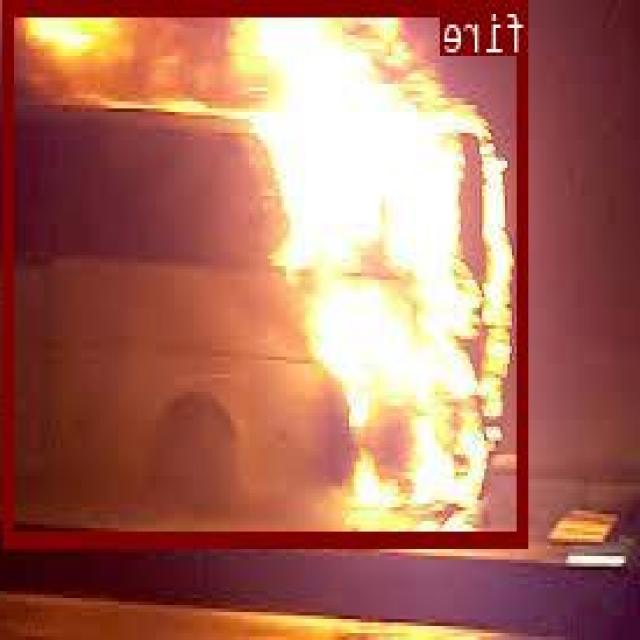fire: (7, 0, 531, 542)
